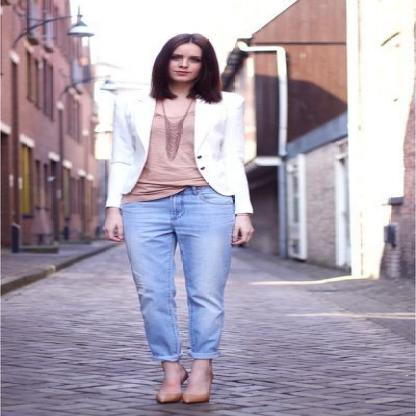jacket: (98, 82, 255, 214)
pants: (109, 192, 249, 360)
shirt: (122, 93, 228, 202)
shoe: (154, 358, 236, 401)
